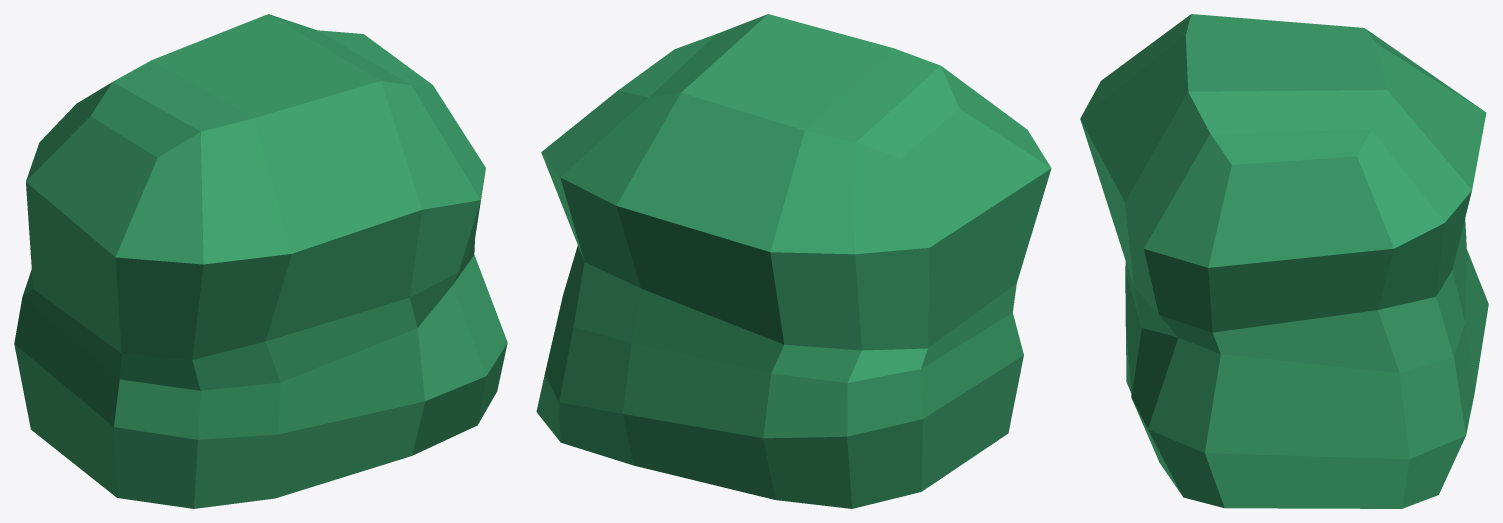
The model's file is chickpea.glb.
3 views of the same model, side by side, from view 1: azimuth 30°, elevation 25°; view 2: azimuth 150°, elevation 25°; view 3: azimuth 270°, elevation 25° (orthographic). The views are drawn at different scales.
Visible parts, largest first — view 1: BushBerries_2_Cube026; view 2: BushBerries_2_Cube026; view 3: BushBerries_2_Cube026.
Boxes of the visible parts, <box> form: BushBerries_2_Cube026: <box>14,14,507,508</box>; BushBerries_2_Cube026: <box>536,14,1051,508</box>; BushBerries_2_Cube026: <box>1080,14,1488,508</box>.
Size of the model in its own units: 0.77 by 0.6573 by 0.6692.
